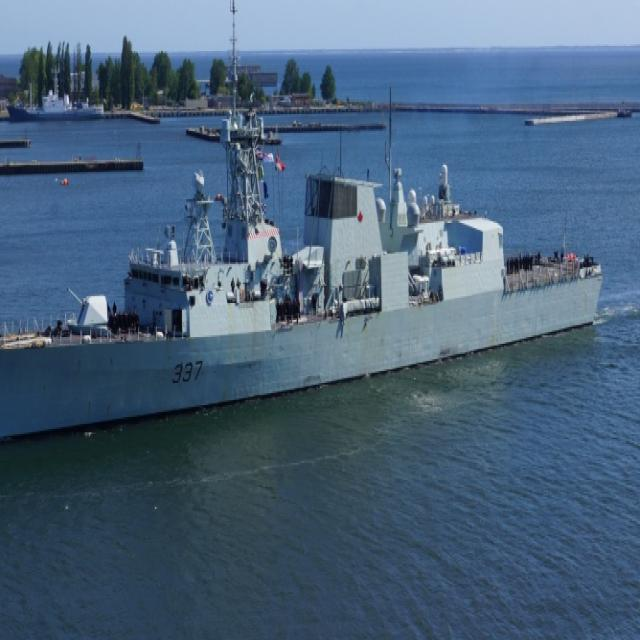Fragata: (1, 1, 606, 455)
